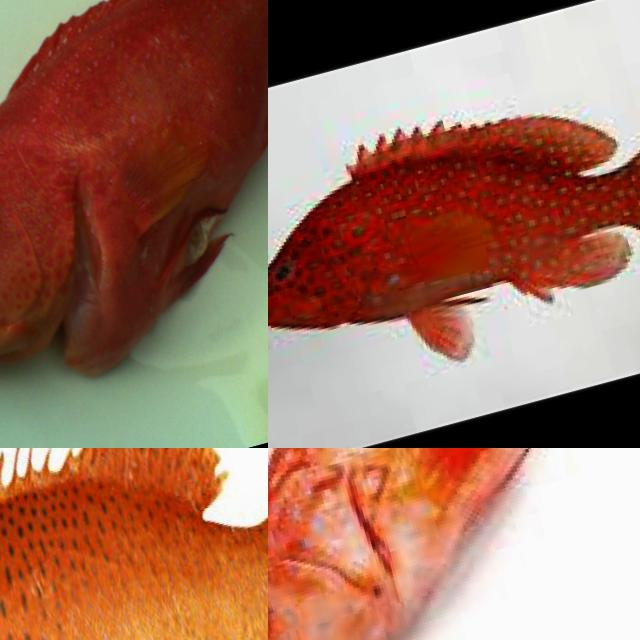Leopard coral grouper: (268, 30, 640, 407), (0, 0, 268, 429), (268, 448, 640, 640), (0, 448, 268, 640)
